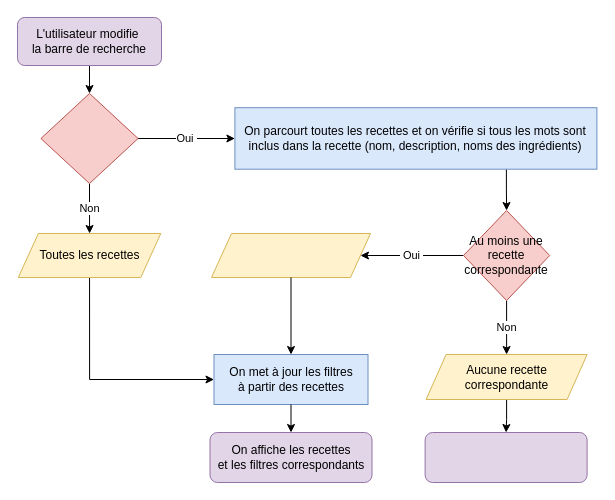
Image size: 615x500. Some labels were removed from this diagram. Each missing label, with the centre of its shape:
"On affiche un message à l'utilisateur" goes at (x=505, y=457).
"Recettes correspondantes" goes at (x=290, y=255).
"Texte supérieur ou égal à 3 caractères" goes at (x=89, y=138).
